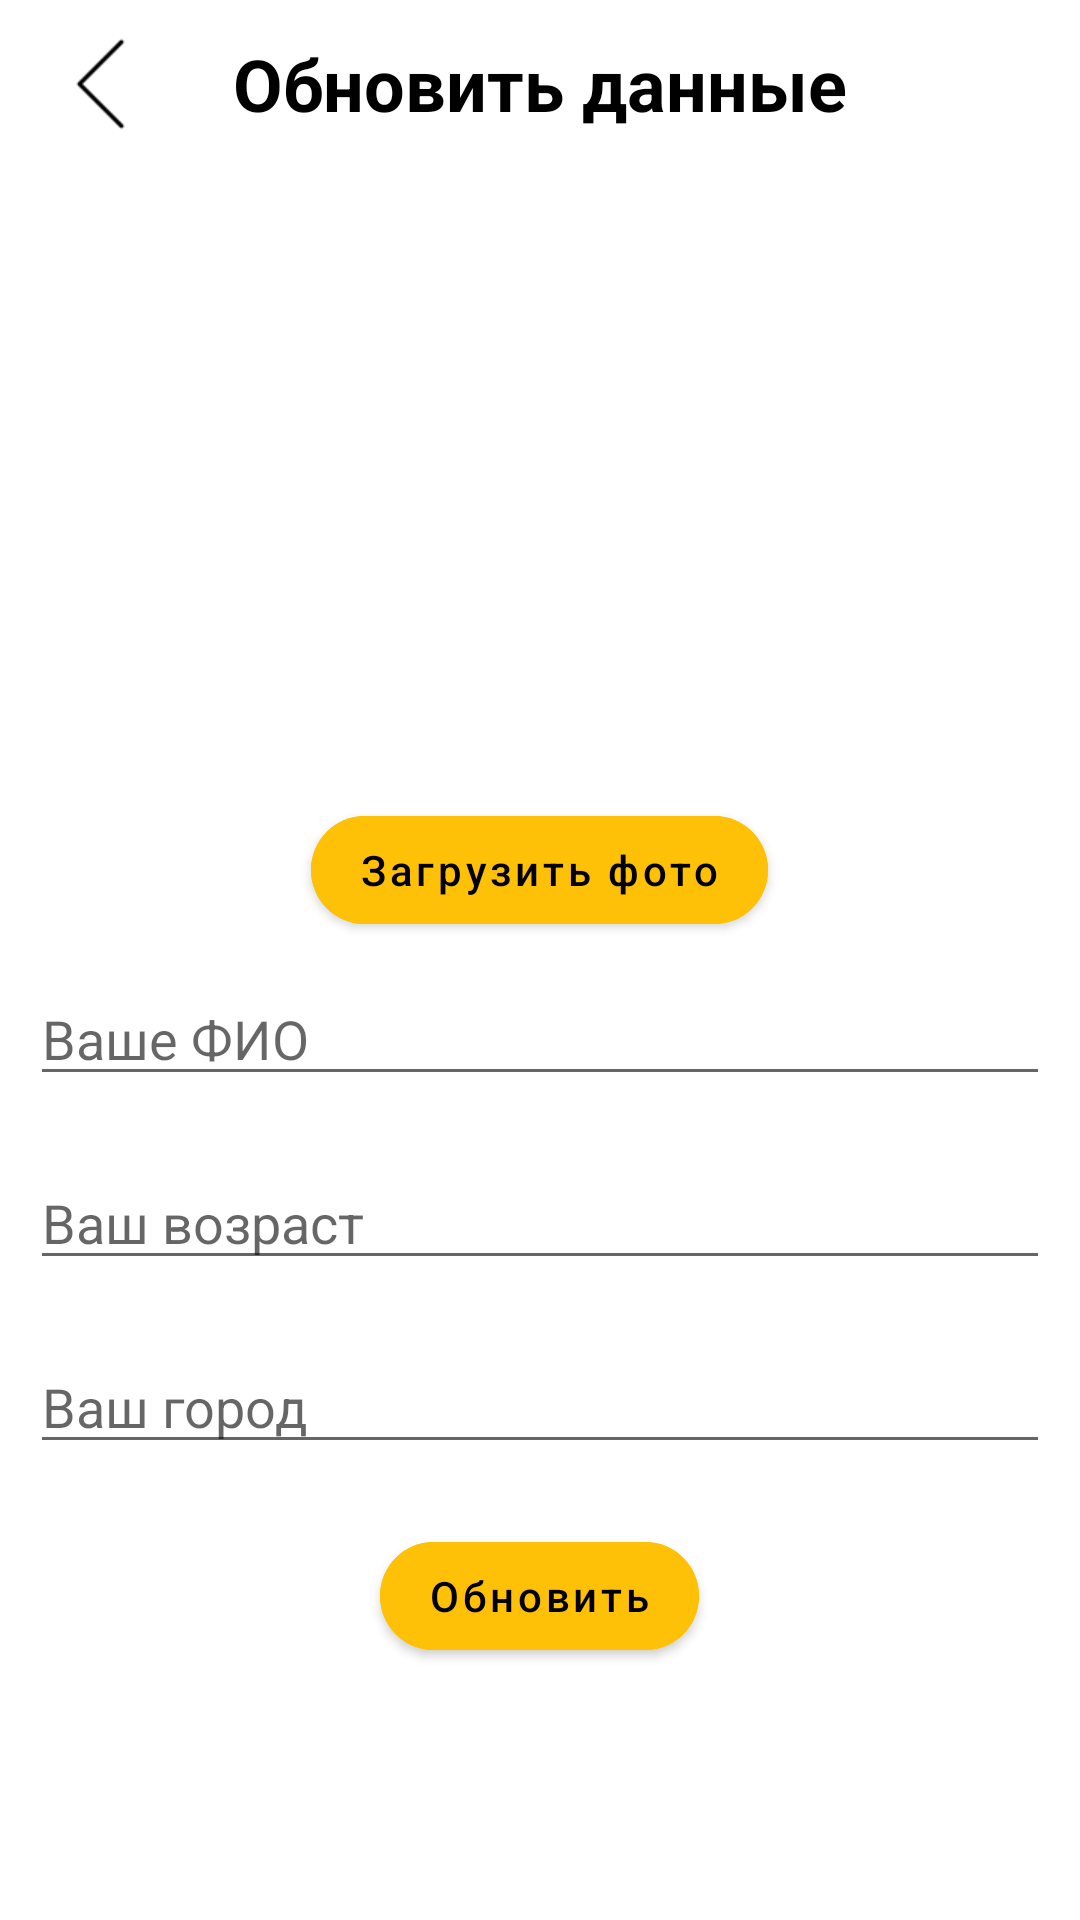

Named icons in this screenshot (1080 × 1920) and their centers, (x,y):
back: (100,84)
